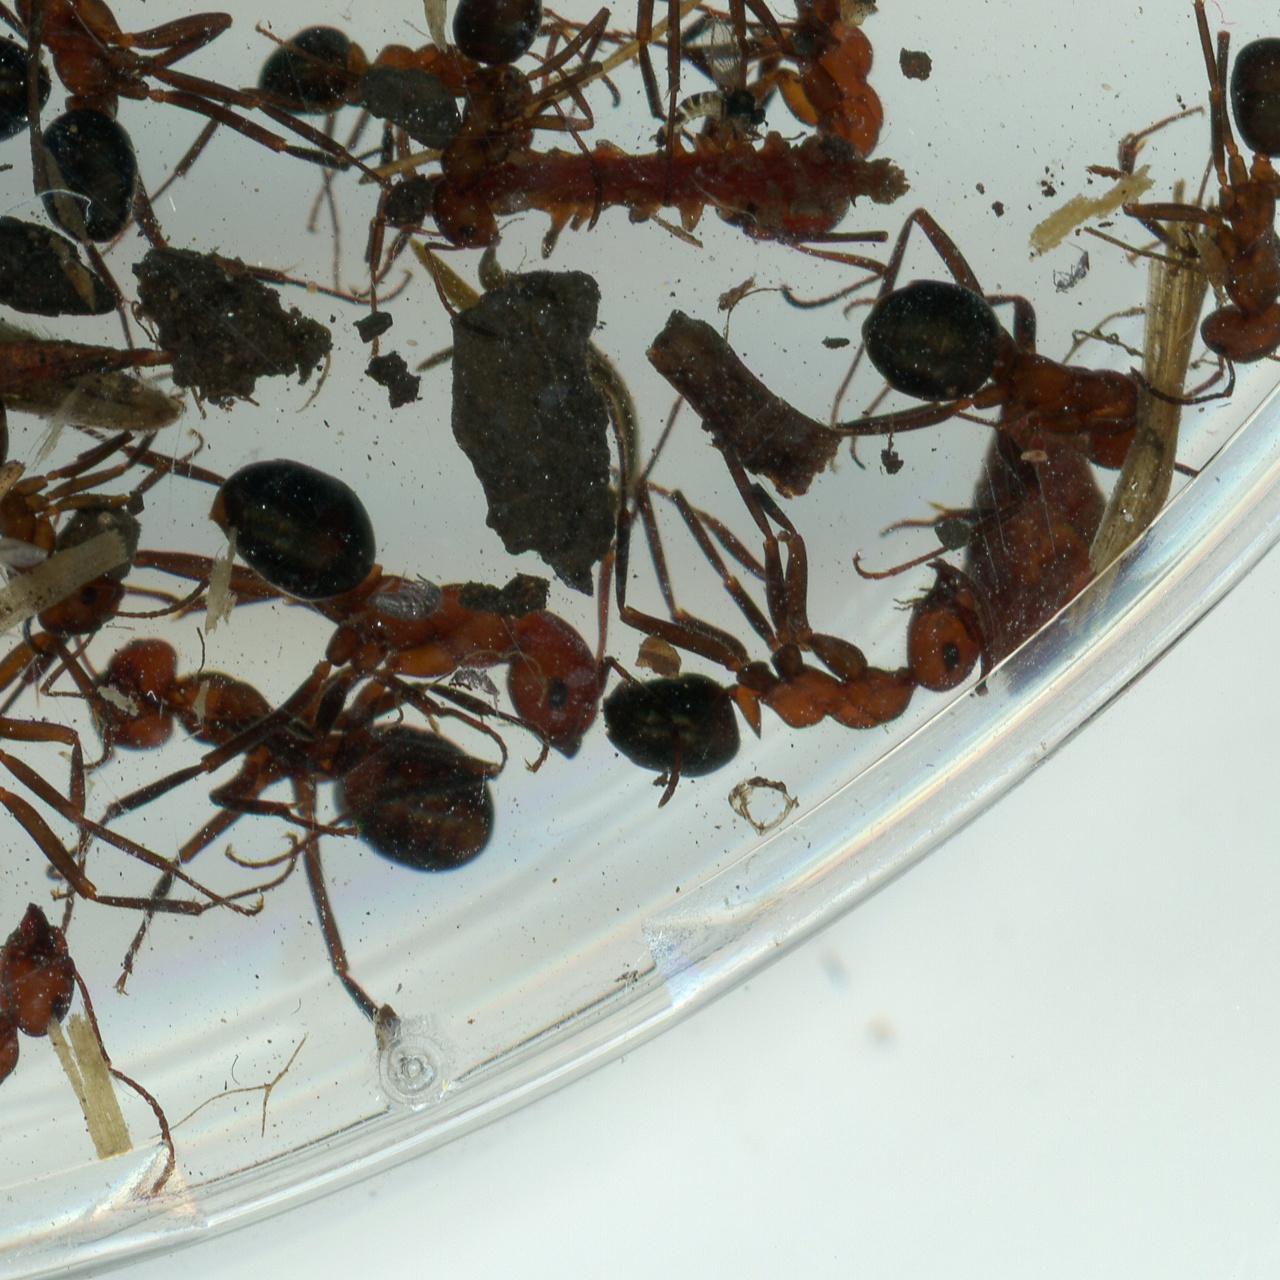arthropod: (0, 376, 750, 1155), (48, 610, 554, 1039), (597, 390, 999, 788), (810, 183, 1246, 538), (0, 0, 407, 307), (0, 490, 254, 964), (1078, 0, 1280, 413), (413, 0, 649, 338), (0, 799, 165, 1280), (148, 20, 570, 205), (667, 0, 917, 309), (0, 400, 224, 704), (474, 0, 964, 64), (649, 9, 772, 155), (0, 510, 75, 614), (366, 570, 445, 624), (445, 667, 504, 724), (1049, 234, 1095, 300)
